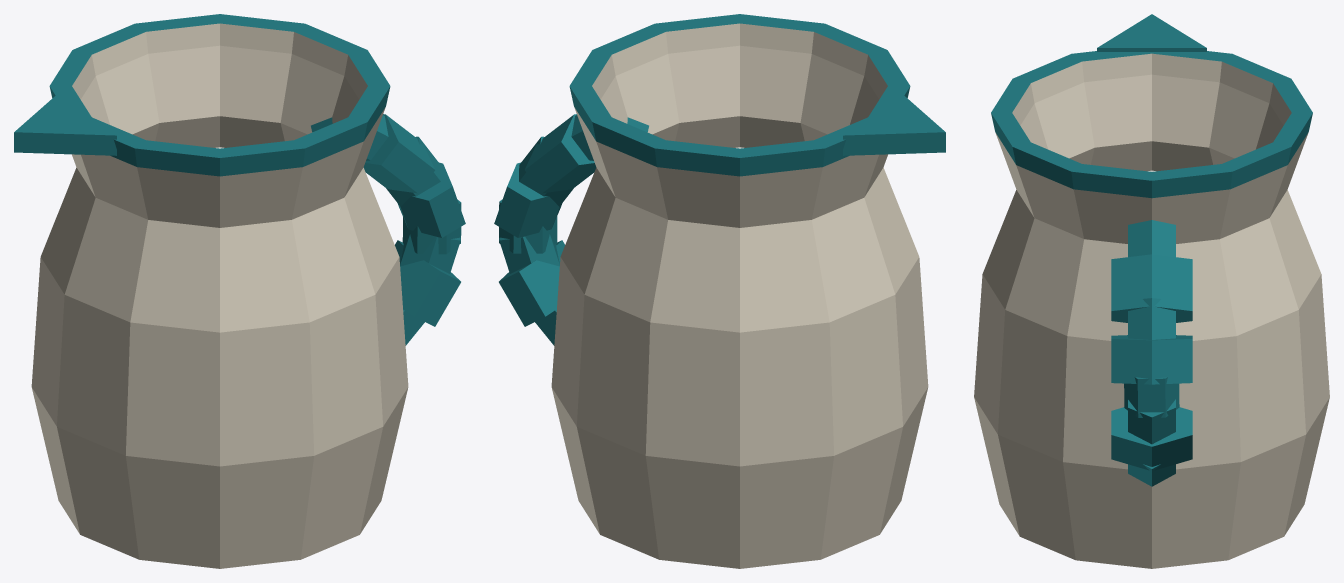
File: milk_jug.glb
3 renders of one model, left to right at view 1: azimuth 30°, elevation 25°; view 2: azimuth 150°, elevation 25°; view 3: azimuth 270°, elevation 25°, orthographic. The views are drawn at different scales.
Visible parts, largest first — view 1: milk_jug; view 2: milk_jug; view 3: milk_jug.
Part boxes in pixels (left/top/right/bottom): milk_jug: left=14, top=14, right=465, bottom=568; milk_jug: left=494, top=14, right=945, bottom=568; milk_jug: left=974, top=14, right=1329, bottom=568.
Size of the model in its own units: 0.1148 by 0.103 by 0.084.
